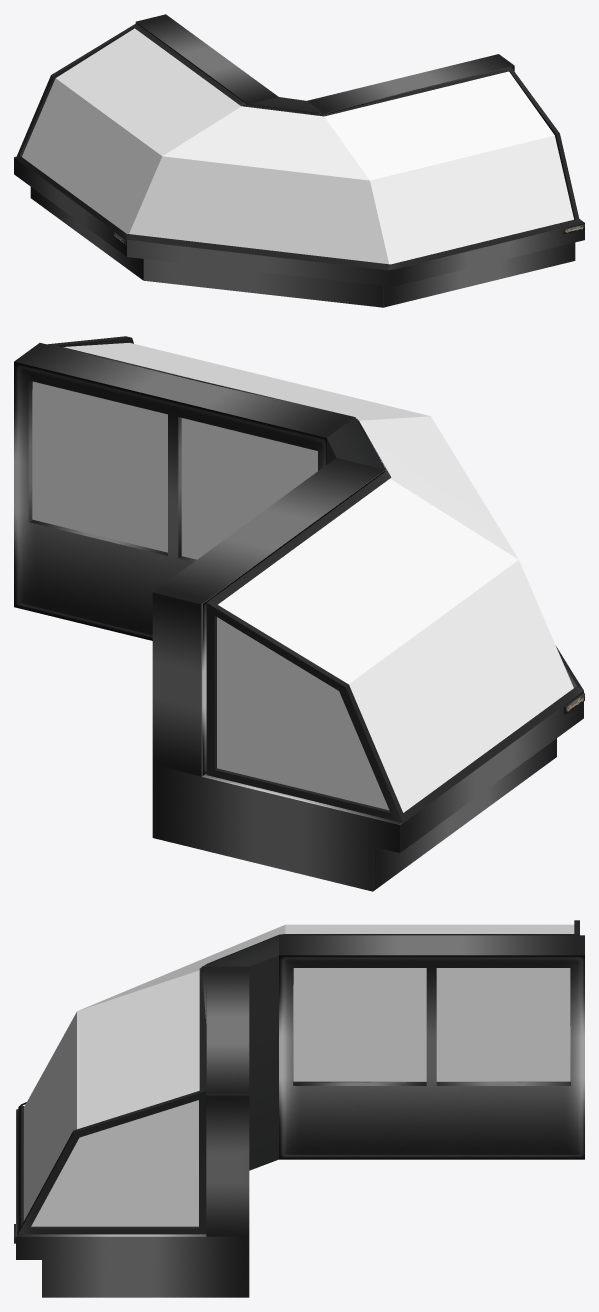
File: Display_Corner.FBX
3 views of the same model, one above another, from view 1: azimuth 30°, elevation 25°; view 2: azimuth 150°, elevation 25°; view 3: azimuth 270°, elevation 25° (orthographic). The views are drawn at different scales.
Parts seen in each view (by area): view 1: Glass002, Display_case002; view 2: Glass002, Display_case002, Glass_Door_B002, Glass_Door_A002; view 3: Display_case002, Glass002, Glass_Door_A003, Glass_Door_B003.
Part boxes in pixels (x1,y1,x2,y2): Glass002: (16,23,580,270); Display_case002: (14,14,584,307); Glass002: (47,336,583,822); Display_case002: (14,343,584,891); Glass_Door_B002: (32,381,167,552); Glass_Door_A002: (181,418,317,559); Display_case002: (14,935,584,1297); Glass002: (18,920,579,1234); Glass_Door_A003: (436,968,570,1081); Glass_Door_B003: (293,968,426,1081).
Size of the model in its own units: 546 by 217 by 550.
